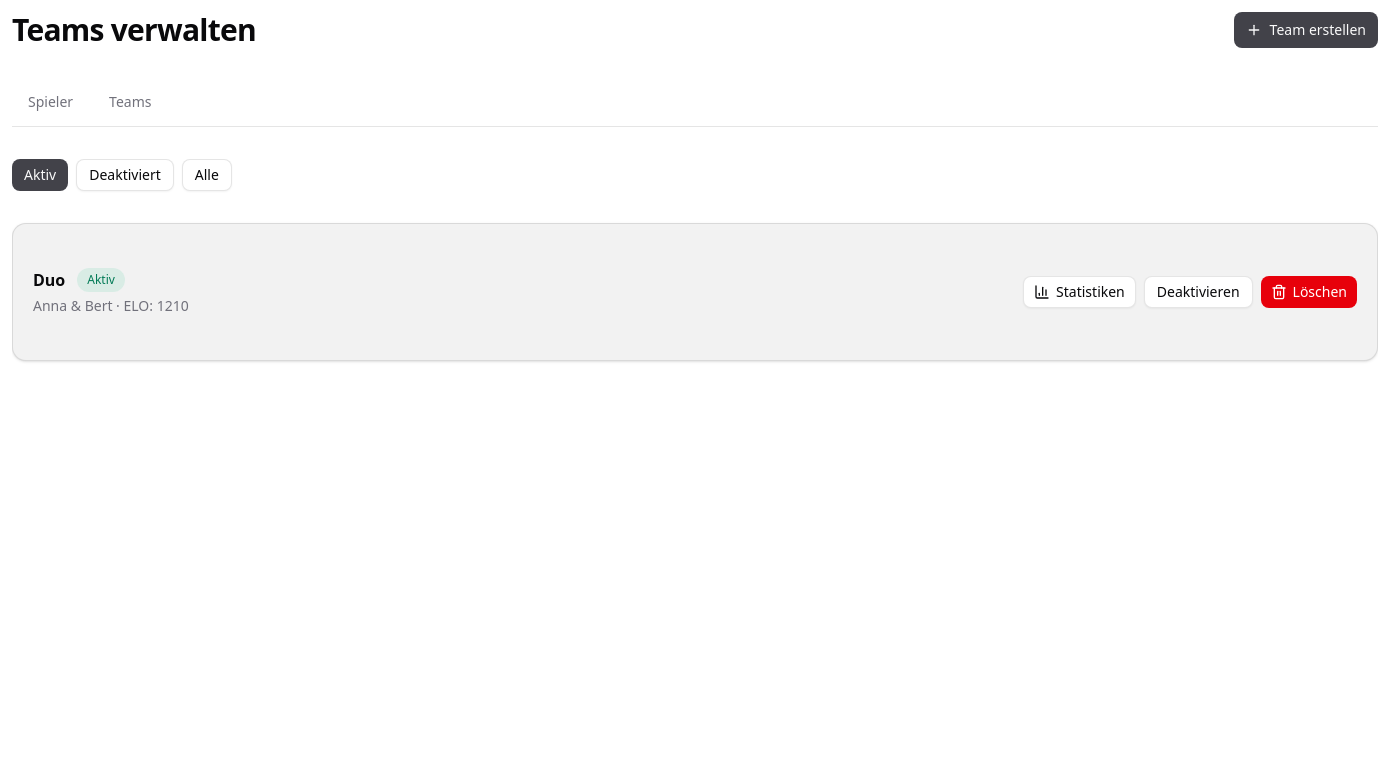
Test: TeamsPage › keeps a successful status mutation separate from a failed refresh
Expected: the heading "Duo" is shown, [33,268,65,292]
Click the button "Deaktivieren": (1198, 292) [1144,276,1253,308]
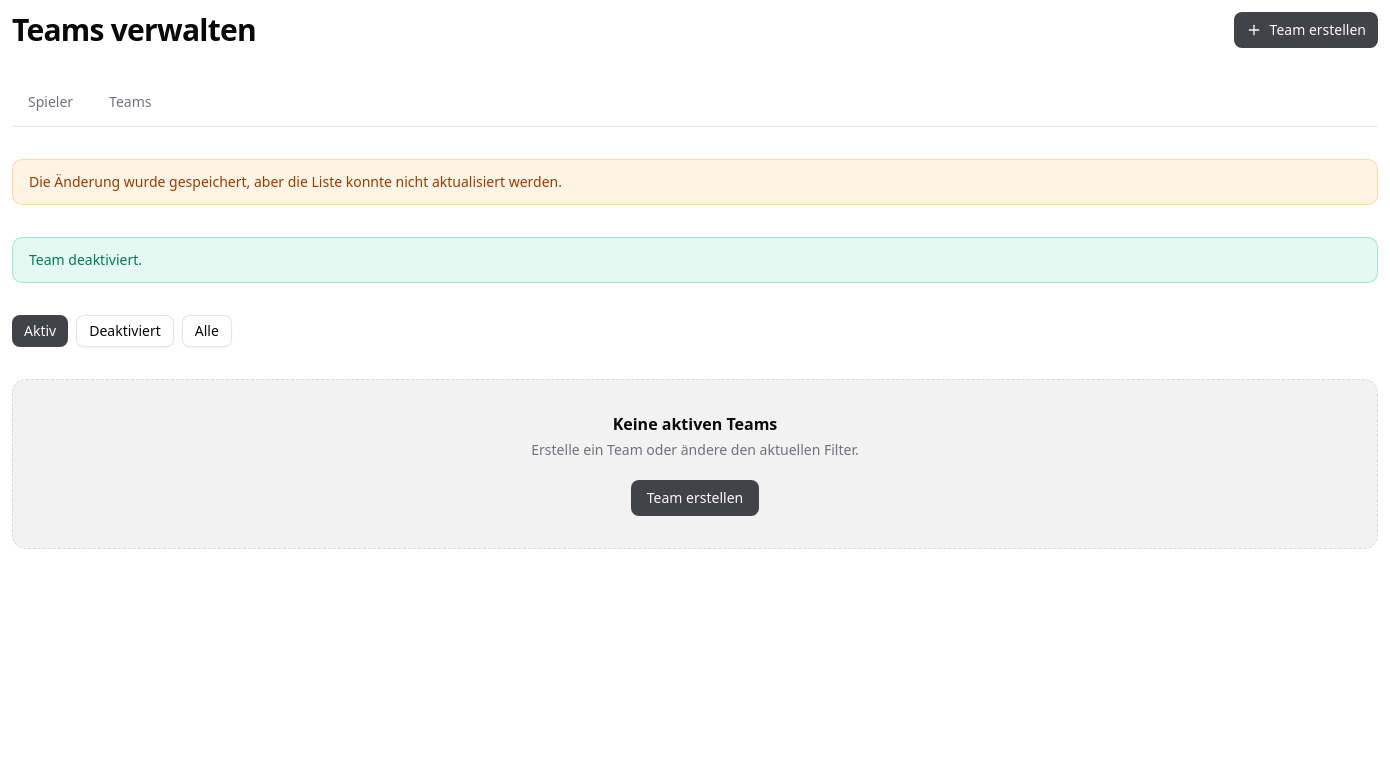
Now the text "Team deaktiviert." is shown, box [12,237,1378,283]
Now the text "Die Änderung wurde gespeichert" is shown, box [29,172,562,191]
